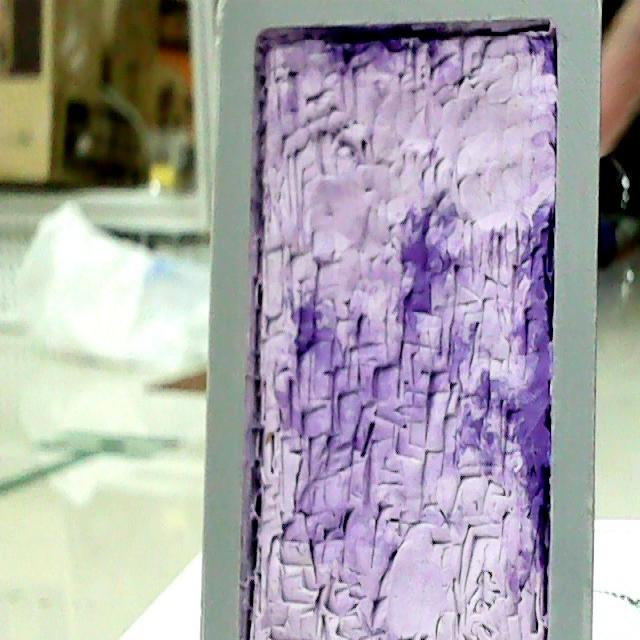block: (198, 4, 607, 632)
